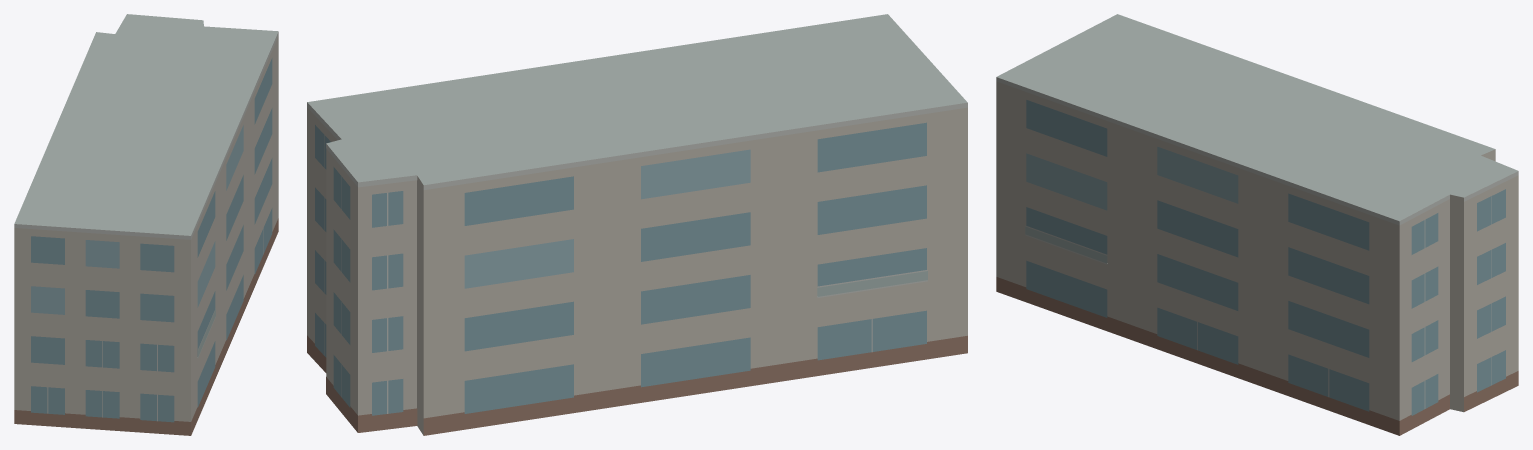
Rendered from survey-upis-32708714.glb.
The picture shows the model from 3 angles, left to right: view 1: azimuth 30°, elevation 25°; view 2: azimuth 150°, elevation 25°; view 3: azimuth 270°, elevation 25°; orthographic projection. The views are drawn at different scales.
Parts seen in each view (by area): view 1: survey-upis-32708714.tmp; view 2: survey-upis-32708714.tmp; view 3: survey-upis-32708714.tmp.
Part boxes in pixels (bbox=[...]): survey-upis-32708714.tmp: bbox=[14, 14, 278, 435]; survey-upis-32708714.tmp: bbox=[307, 14, 967, 435]; survey-upis-32708714.tmp: bbox=[996, 14, 1518, 435].
Size of the model in its own units: 25.49 by 12.3 by 27.15.
